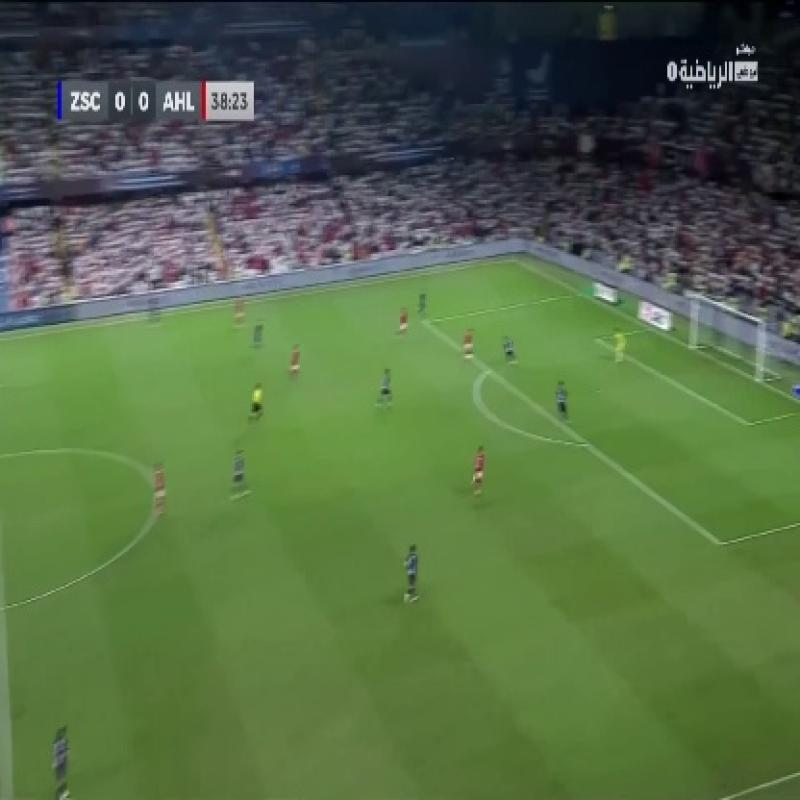1: (500, 254, 523, 270)
10: (477, 358, 496, 380)
11: (576, 431, 594, 454)
12: (708, 527, 731, 556)
2: (570, 284, 588, 304)
3: (636, 316, 660, 338)
7: (586, 328, 606, 346)
8: (736, 412, 756, 435)
9: (413, 310, 431, 330)
c: (133, 466, 173, 504)
